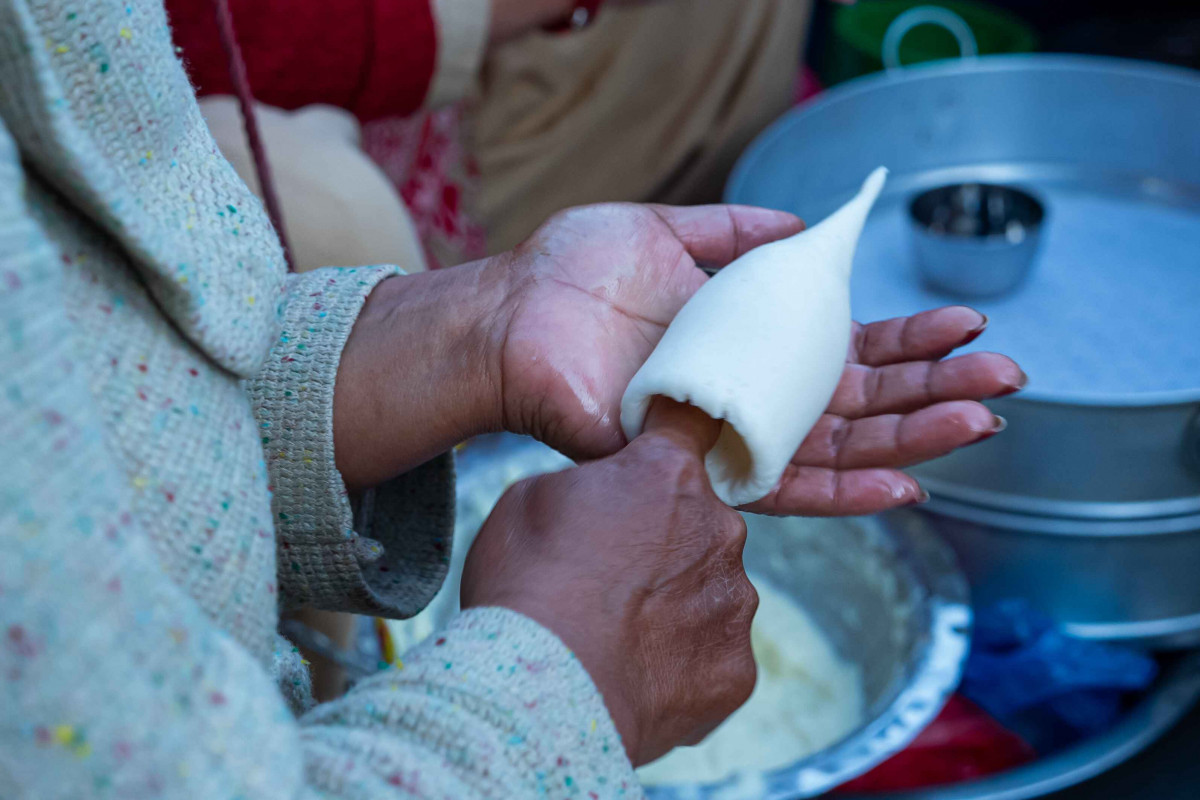yomari: (592, 158, 892, 498)
